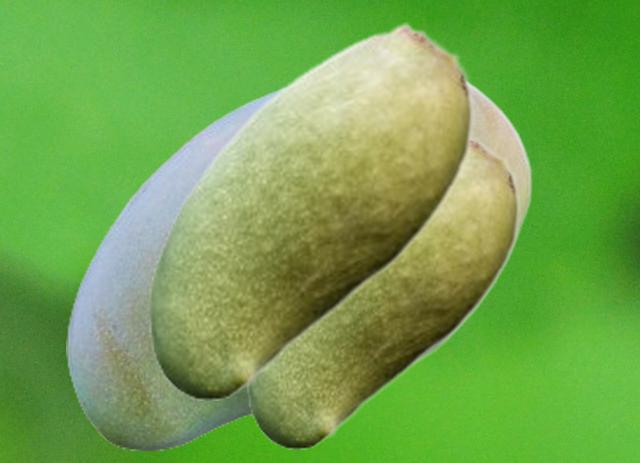green_mango: (66, 80, 532, 449), (147, 22, 473, 399), (245, 132, 519, 448)
